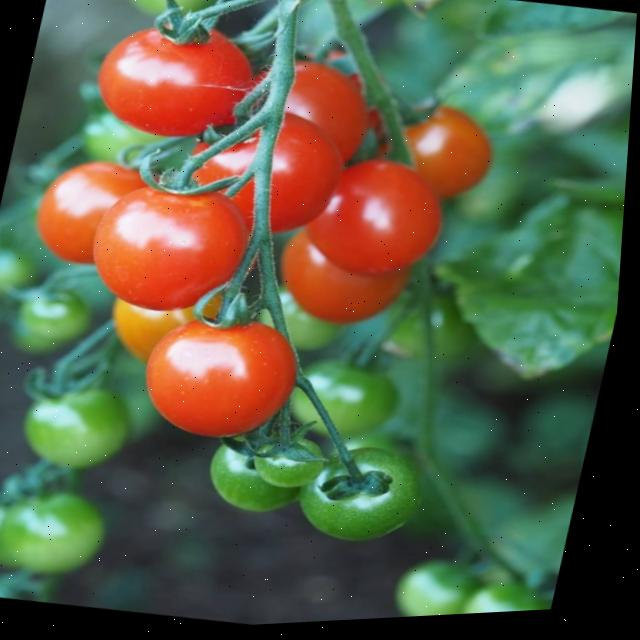overripe: (80, 159, 265, 321), (88, 5, 268, 155), (137, 309, 314, 457), (304, 150, 461, 296), (25, 148, 182, 291), (191, 103, 349, 245), (258, 221, 429, 343)
unripe: (299, 435, 441, 562), (10, 364, 147, 482), (0, 479, 129, 586), (205, 439, 332, 545), (290, 351, 415, 452), (396, 555, 501, 622), (257, 425, 336, 500), (467, 574, 566, 620), (111, 0, 241, 33)
